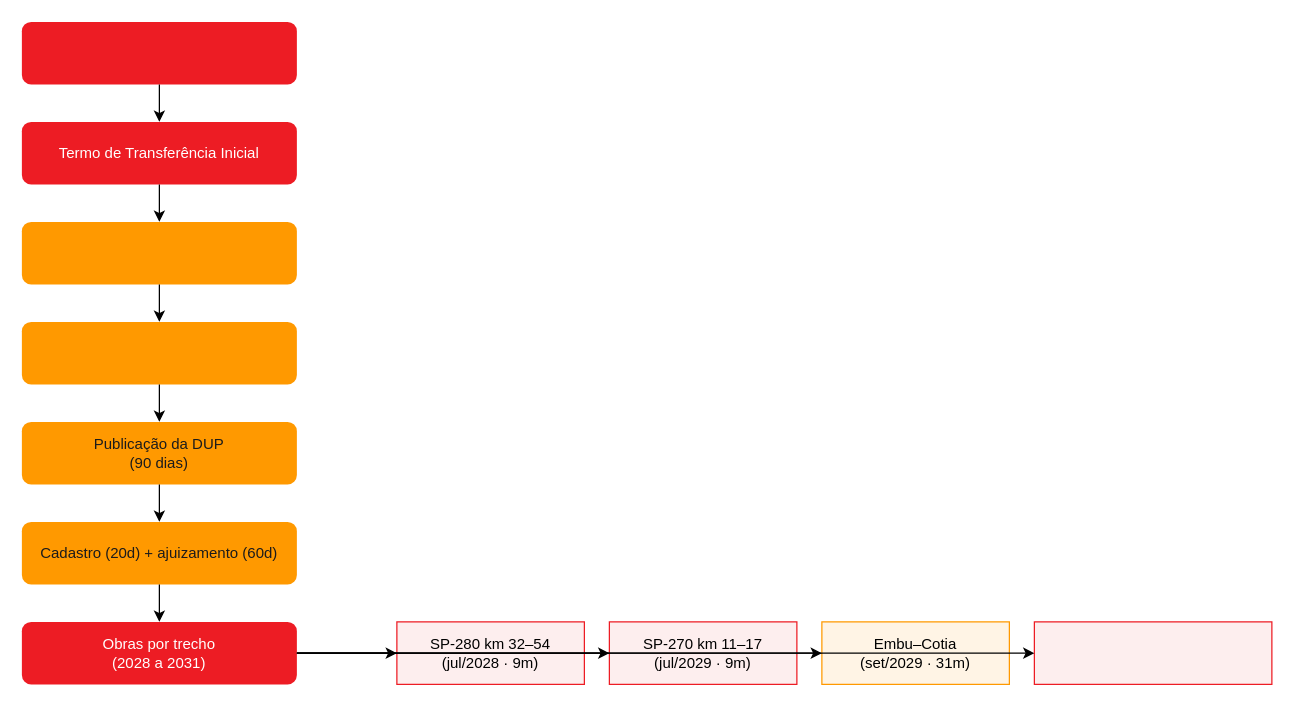
This 1294x706 diagram has some shape labels left out. The shapes that lost their labels are listed below. From the top down, each one's box as (x1, y1, x2, y2) in pixels, then its label:
(21, 21, 296, 84): Assinatura do contrato 14/03/2025
(21, 221, 296, 284): Projetos Funcionais (390 dias antes das obras)
(21, 321, 296, 384): Envio dos documentos da DUP (180 dias antes das obras)
(1033, 621, 1272, 684): SP-270 km 17–32 + SP-029 (2030–2031 · 9m)
